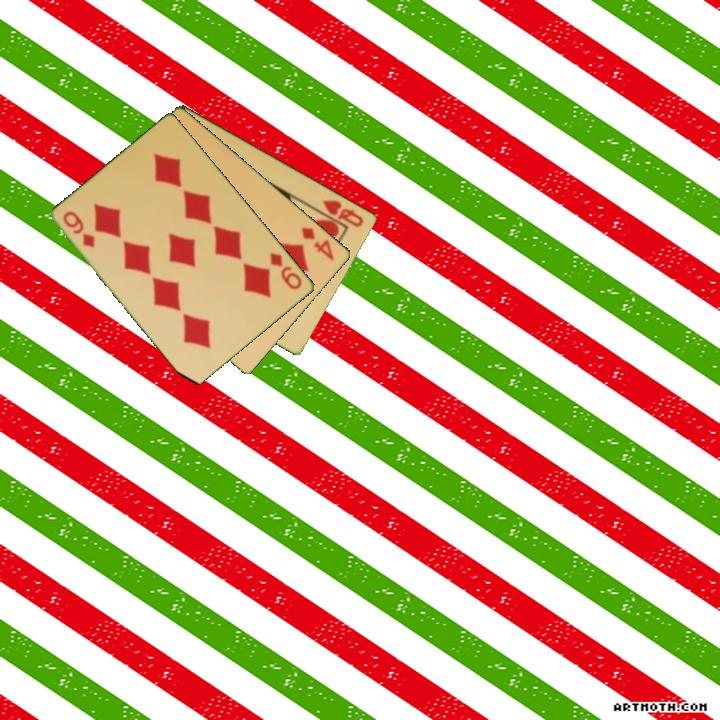4d: (298, 223, 337, 263)
9d: (267, 249, 305, 293), (60, 207, 98, 251)
Qh: (319, 196, 367, 230)
